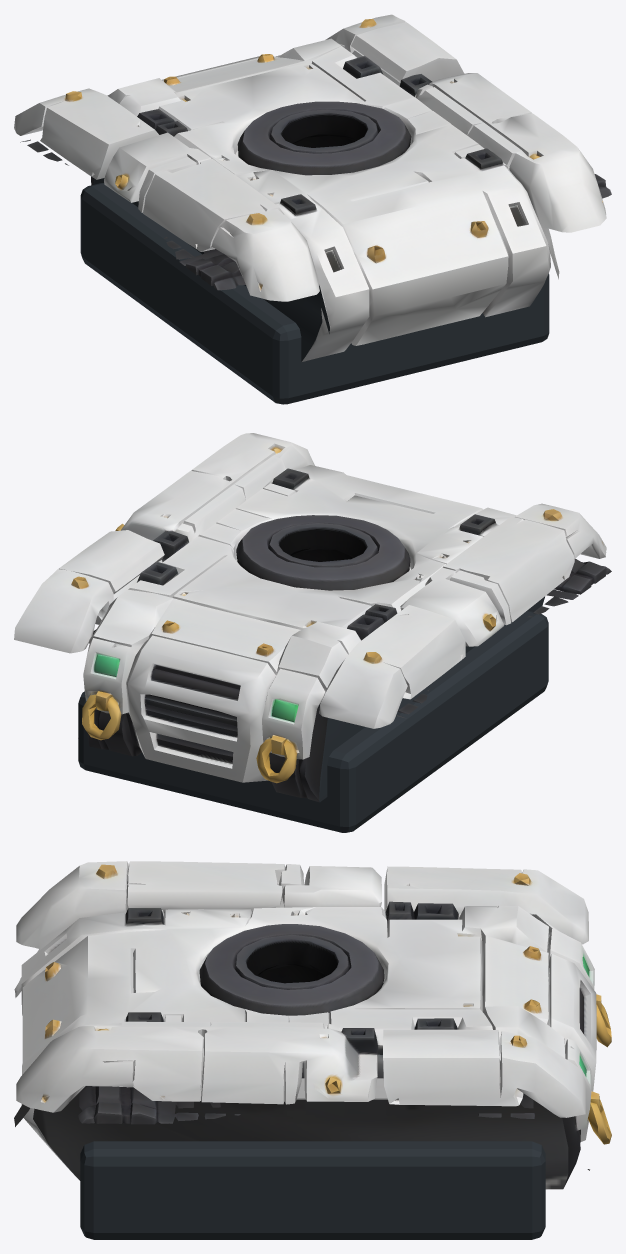
Rendered from heavy_tracks.glb.
3 renders of one model, top to bottom at view 1: azimuth 30°, elevation 25°; view 2: azimuth 150°, elevation 25°; view 3: azimuth 270°, elevation 25°, orthographic. The views are drawn at different scales.
Visible parts, largest first — view 1: Body.026, ClosedUndercarriage.007; view 2: Body.026, ClosedUndercarriage.007; view 3: Body.026, ClosedUndercarriage.007.
Boxes of the visible parts, x1,y1,x2,y2 form: Body.026: [14, 14, 611, 362]; ClosedUndercarriage.007: [80, 183, 549, 404]; Body.026: [14, 433, 611, 802]; ClosedUndercarriage.007: [78, 610, 548, 832]; Body.026: [14, 861, 611, 1189]; ClosedUndercarriage.007: [80, 1141, 545, 1239].
Size of the model in its own units: 1.58 by 0.7509 by 1.8.
Materials: 2 (1 with a texture image).
